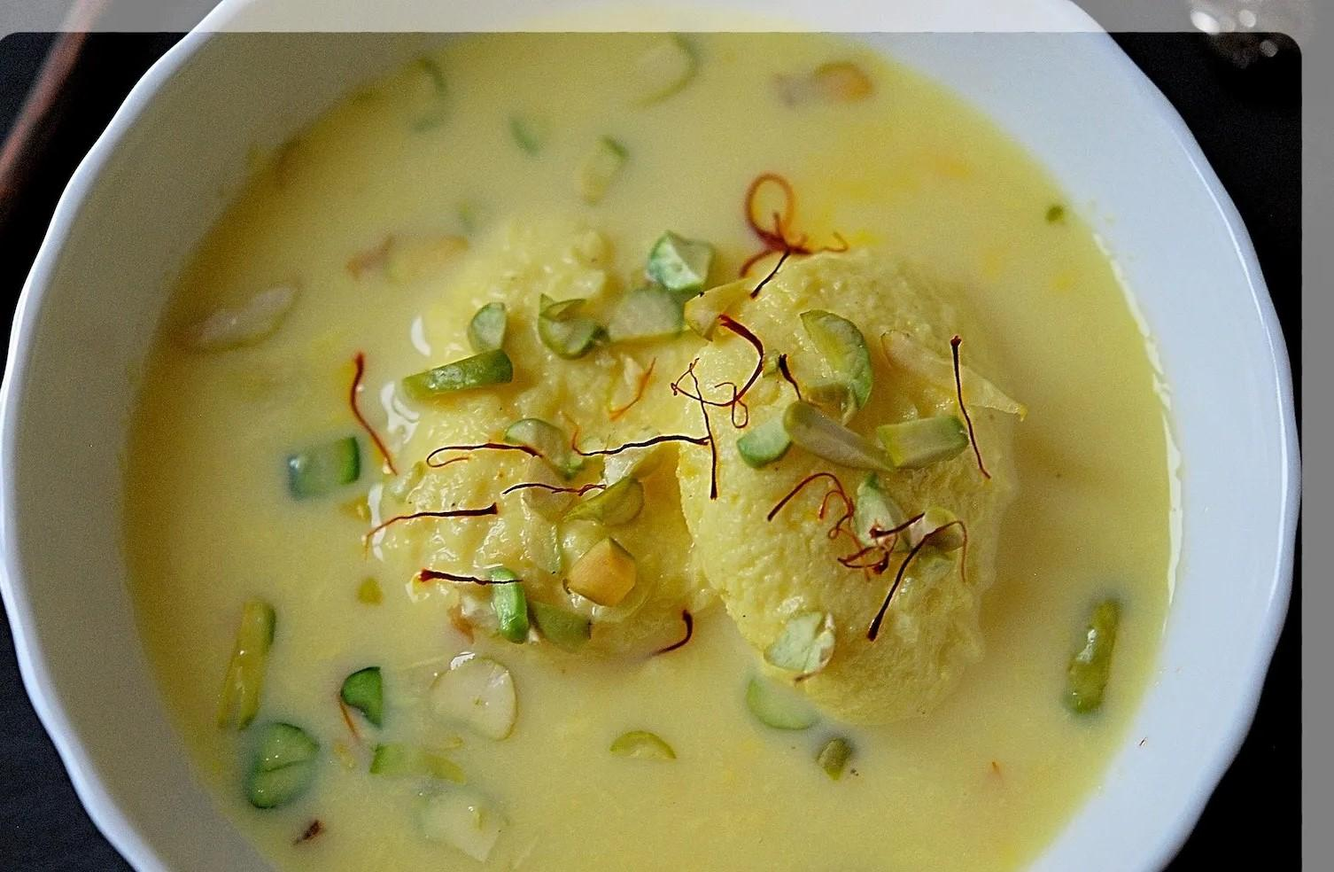RasMalai: (123, 32, 1180, 868)
